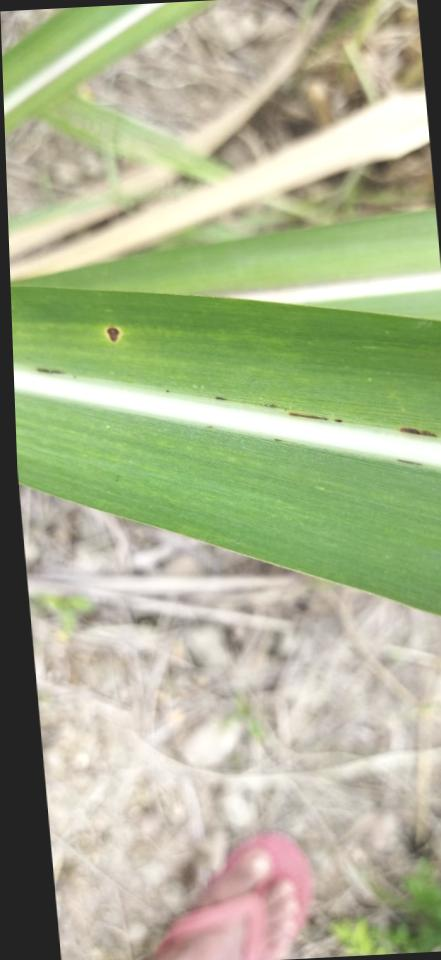Rust: (286, 408, 346, 425), (396, 423, 438, 440), (102, 325, 121, 344), (256, 401, 287, 412), (35, 366, 67, 376), (394, 456, 423, 467), (214, 395, 227, 401), (162, 386, 169, 394), (273, 437, 282, 442), (205, 424, 213, 428)
